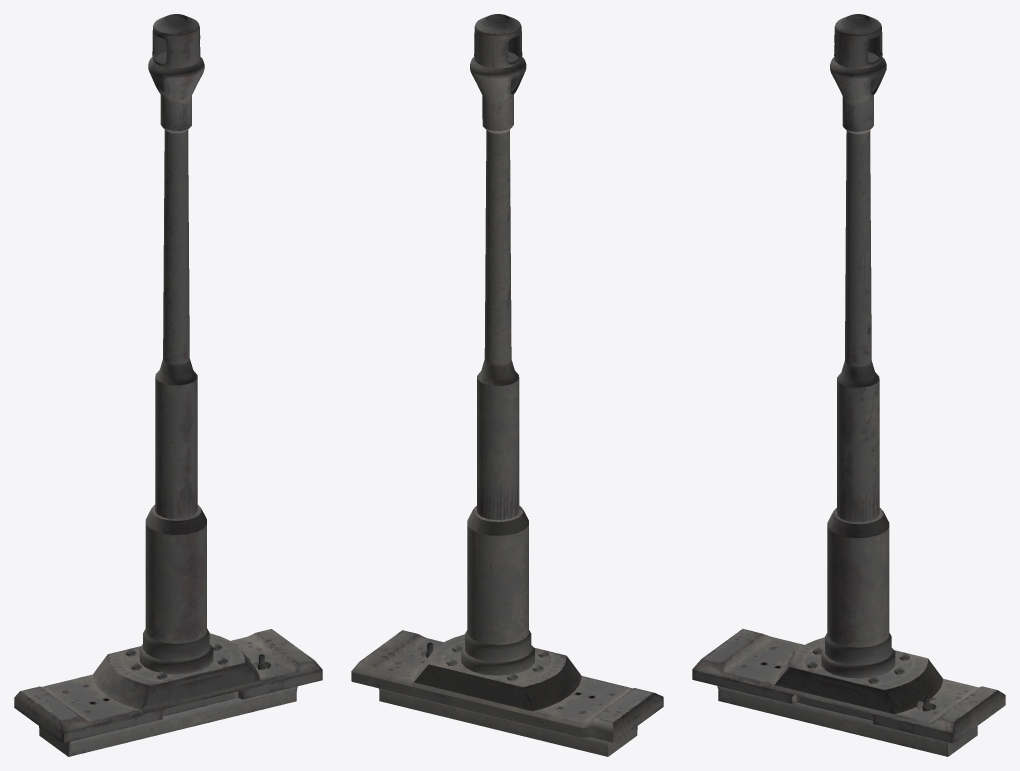
File: Gun_07.glb
3 views of the same model, side by side, from view 1: azimuth 30°, elevation 25°; view 2: azimuth 150°, elevation 25°; view 3: azimuth 330°, elevation 25° (orthographic).
Visible parts, largest first — view 1: set_0_group_0; view 2: set_0_group_0; view 3: set_0_group_0.
Part boxes in pixels (left/top/right/bottom): set_0_group_0: left=14, top=14, right=322, bottom=756; set_0_group_0: left=351, top=14, right=663, bottom=756; set_0_group_0: left=692, top=14, right=1005, bottom=756.
Bounding box in the file's own units: 1.6 × 4.09 × 0.5606.
Materials: 1 (1 with a texture image).
